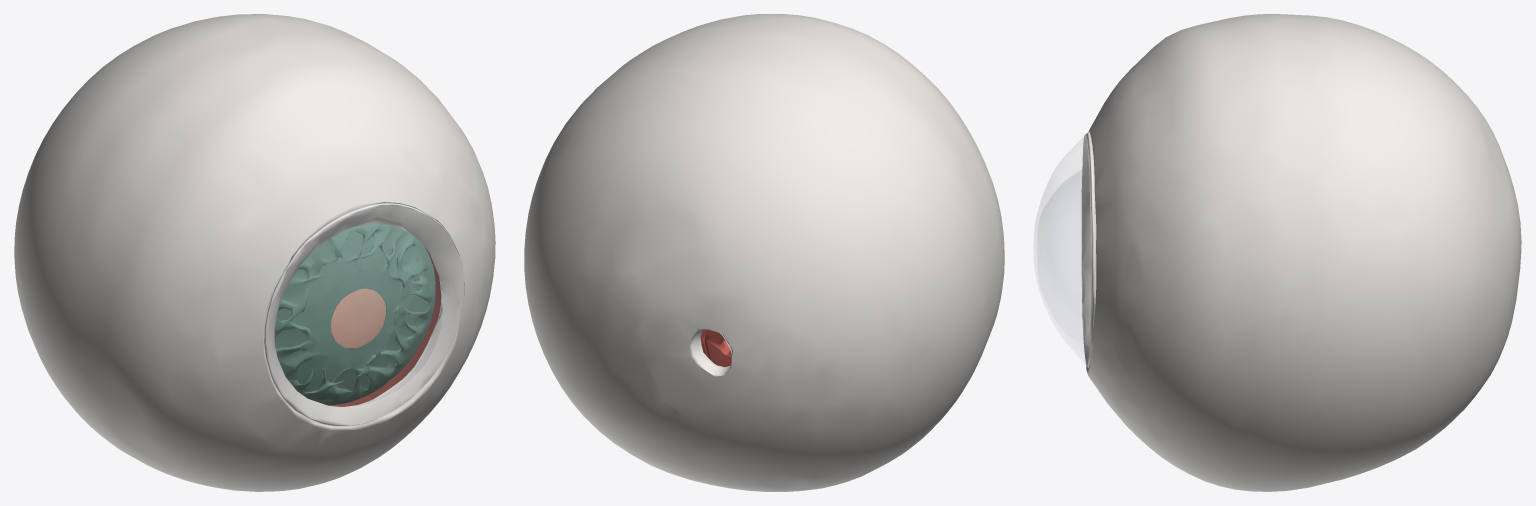
The model's file is eye.glb.
3 views of the same model, side by side, from view 1: azimuth 30°, elevation 25°; view 2: azimuth 150°, elevation 25°; view 3: azimuth 270°, elevation 25° (orthographic).
Visible parts, largest first — view 1: Sclera, Cornea, Iris, Retina, Lens; view 2: Sclera, Retina; view 3: Sclera, Cornea.
Part boxes in pixels (bbox=[...]): Sclera: bbox=[14, 14, 495, 491]; Cornea: bbox=[265, 203, 464, 426]; Iris: bbox=[274, 223, 435, 405]; Retina: bbox=[328, 245, 441, 406]; Lens: bbox=[331, 289, 385, 347]; Sclera: bbox=[524, 14, 1004, 491]; Retina: bbox=[700, 329, 731, 366]; Sclera: bbox=[1081, 14, 1521, 491]; Cornea: bbox=[1034, 133, 1093, 366].
Size of the model in its own units: 1.95 by 1.95 by 2.
